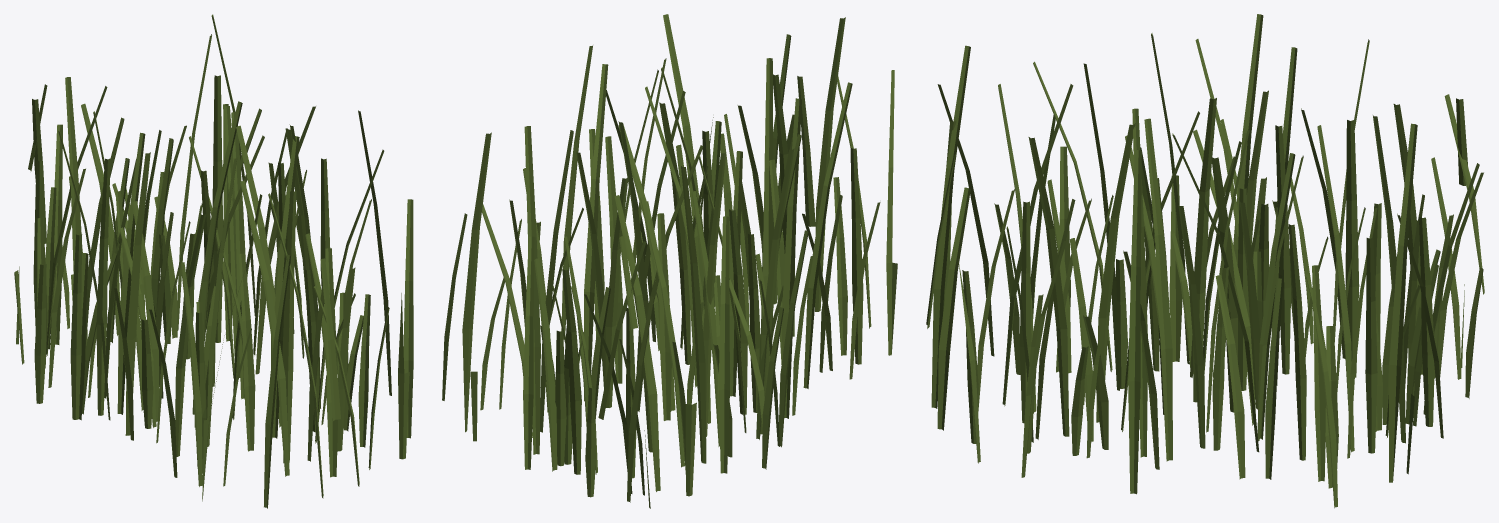
The model's file is grass.fbx.
3 renders of one model, left to right at view 1: azimuth 30°, elevation 25°; view 2: azimuth 150°, elevation 25°; view 3: azimuth 270°, elevation 25°, orthographic. The views are drawn at different scales.
Parts seen in each view (by area): view 1: Grass06_1; view 2: Grass06_1; view 3: Grass06_1.
Boxes of the visible parts, x1,y1,x2,y2 form: Grass06_1: (14, 14, 413, 508); Grass06_1: (442, 14, 897, 508); Grass06_1: (926, 14, 1484, 508).
Bounding box in the file's own units: 247 × 231 × 343.
